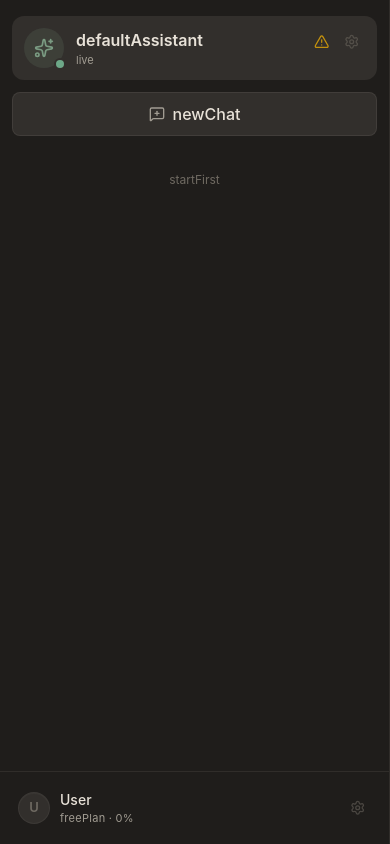
it: Sidebar — ADR-076 Slice 5 chat list skeleton › opens the warn safety modal from the assistant card icon without opening settings
Click the button named "safetyWarnIconAria" at (322,42), box [308, 28, 336, 56]
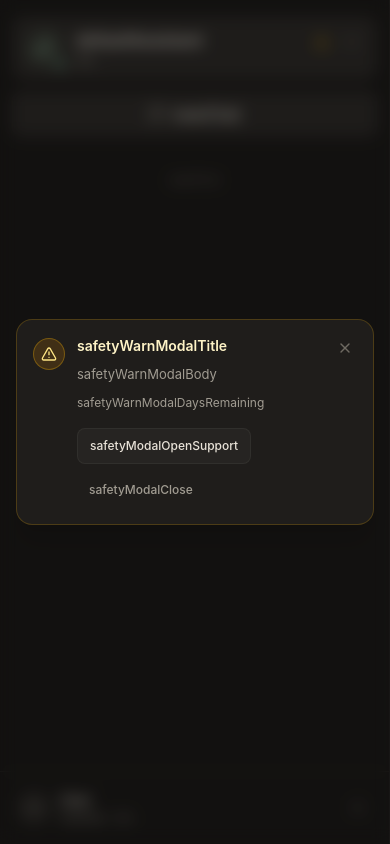
Now the text "safetyWarnModalTitle" is shown, box [77, 337, 227, 354]
